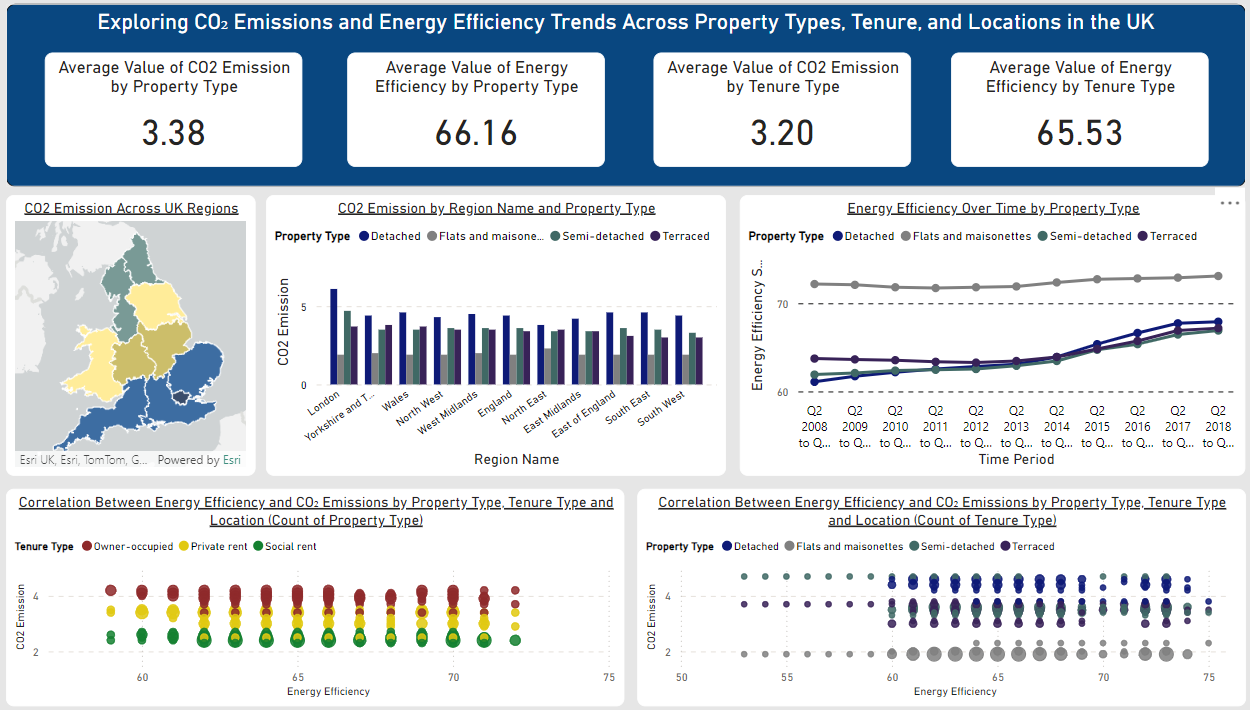

What the dashboard file says about the page in this screenshot:
{"tool":"powerbi","page":{"name":"Page 1","canvas":[1280,720],"ordinal":0},"visuals":[{"type":"lineChart","title":"Energy Efficiency Over Time by Property Type","fields":{"Category":["Energy_effi_byProperty.Time Period"],"Y":["Avg(Energy_effi_byProperty.Energy Efficiency)"],"Series":["Energy_effi_byProperty.Property Type"]},"box":[754.1,200,505.9,281.2],"z":3000},{"type":"scatterChart","title":"Correlation Between Energy Efficiency and CO₂ Emissions by Property Type, Tenure Type and Location (Count of Property Type)","fields":{"Series":["CO2_Emission_byTenure.Tenure Type"],"Size":["CountNonNull(Energy_effi_byProperty.Property Type)"],"X":["Energy_effi_byTenure.Energy Efficiency"],"Y":["CO2_Emission_byTenure.CO2 Emission"]},"box":[20.3,493.7,618.8,217.5],"z":4000},{"type":"scatterChart","title":"Correlation Between Energy Efficiency and CO₂ Emissions by Property Type, Tenure Type and Location (Count of Tenure Type)","fields":{"X":["Energy_effi_byProperty.Energy Efficiency"],"Y":["CO2_Emission_byProperty.CO2 Emission"],"Series":["CO2_Emission_byProperty.Property Type"],"Size":["CountNonNull(CO2_Emission_byTenure.Tenure Type)"]},"box":[651.5,493.7,608.6,217.5],"z":5000},{"type":"clusteredColumnChart","title":"CO2 Emission by Region Name and Property Type","fields":{"Category":["CO2_Emission_byProperty.Region Name"],"Series":["CO2_Emission_byProperty.Property Type"],"Y":["Median(CO2_Emission_byProperty.CO2 Emission)"]},"box":[280,200,460,281.2],"z":6000},{"type":"textbox","box":[20,8.2,1240,183.5],"z":7000},{"type":"esriVisual","title":"CO2 Emission Across UK Regions","fields":{"Color":["CO2_Emission_byProperty.All dwellings"],"Location":["CO2_Emission_byProperty.Region Name"]},"box":[20,200,249.4,281.2],"z":9000},{"type":"card","title":"Average Value of CO2 Emission by Property Type","fields":{"Values":["CO2_Emission_byProperty.AverageValue"]},"box":[58.8,57.6,257.6,114.1],"z":9501},{"type":"card","title":"Average Value of CO2 Emission by Tenure Type","fields":{"Values":["CO2_Emission_byTenure.AverageValueT"]},"box":[667.1,57.6,257.6,114.1],"z":10002},{"type":"card","title":"Average Value of Energy Efficiency by Property Type","fields":{"Values":["Energy_effi_byProperty.AverageValueEP"]},"box":[361.2,57.6,257.6,114.1],"z":10503},{"type":"card","title":"Average Value of Energy Efficiency by Tenure Type","fields":{"Values":["Energy_effi_byTenure.AverageValueET"]},"box":[964.7,57.6,257.6,114.1],"z":11004}]}

Visuals, with their boxes in screenshot pixels (x1, y1, x2, y2), scaled from the page's 1280x720 canvas onto the 1250x710 screenshot:
"Energy Efficiency Over Time by Property Type" lineChart: (left=736, top=197, right=1230, bottom=475)
"Correlation Between Energy Efficiency and CO₂ Emissions by Property Type, Tenure Type and Location (Count of Property Type)" scatterChart: (left=20, top=487, right=624, bottom=701)
"Correlation Between Energy Efficiency and CO₂ Emissions by Property Type, Tenure Type and Location (Count of Tenure Type)" scatterChart: (left=636, top=487, right=1231, bottom=701)
"CO2 Emission by Region Name and Property Type" clusteredColumnChart: (left=273, top=197, right=723, bottom=475)
textbox: (left=20, top=8, right=1230, bottom=189)
"CO2 Emission Across UK Regions" esriVisual: (left=20, top=197, right=263, bottom=475)
"Average Value of CO2 Emission by Property Type" card: (left=57, top=57, right=309, bottom=169)
"Average Value of CO2 Emission by Tenure Type" card: (left=651, top=57, right=903, bottom=169)
"Average Value of Energy Efficiency by Property Type" card: (left=353, top=57, right=604, bottom=169)
"Average Value of Energy Efficiency by Tenure Type" card: (left=942, top=57, right=1194, bottom=169)
